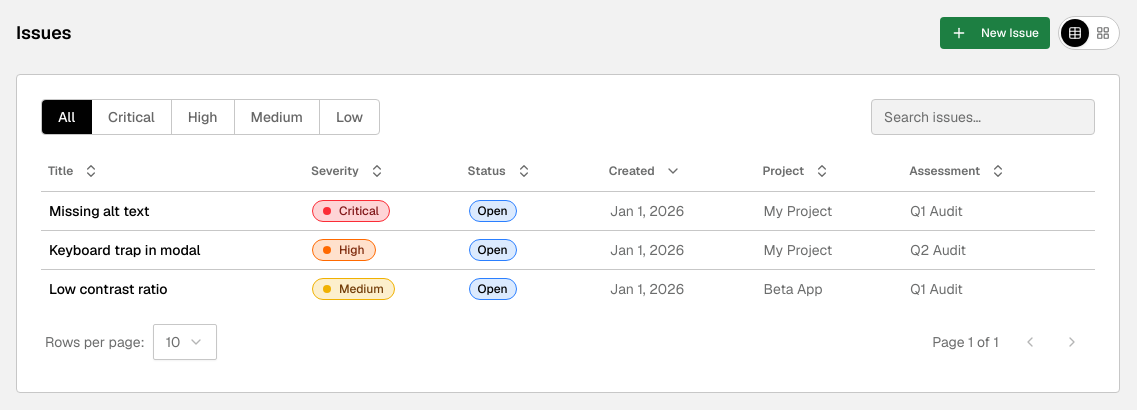
IssuesListView search › filters issues by title
In the search field: (983, 117) [871,99,1095,135], type "alt text"
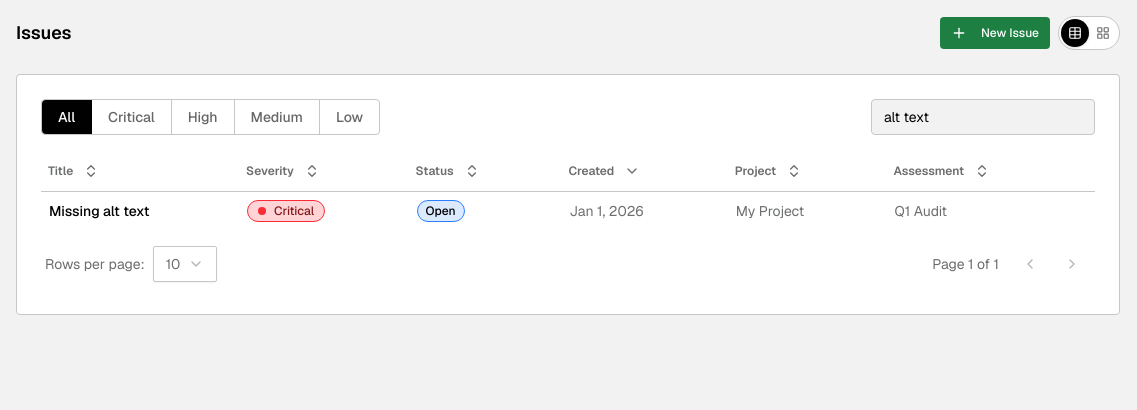
Expected: the link "Missing alt text" is shown, [49,202,150,220]
Expected: the link "Keyboard trap in modal" is gone
Expected: the link "Low contrast ratio" is gone
